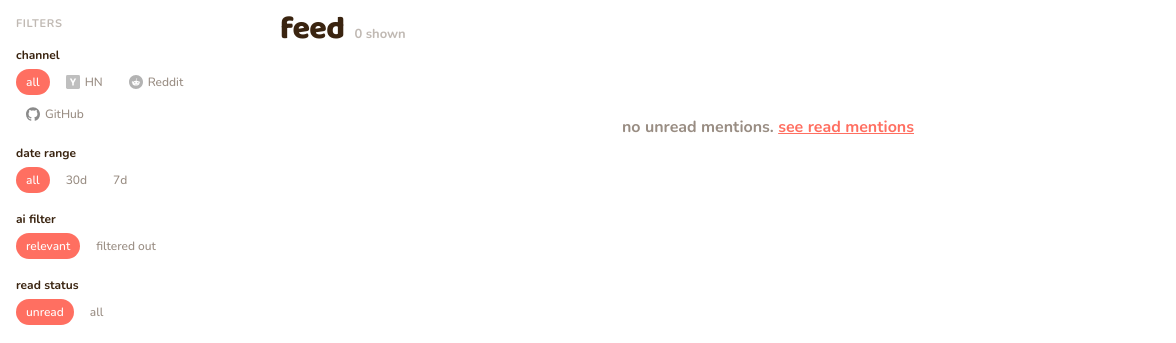
Test case: FeedPage › drops a streamed mention that does not match the active channel filter
Select the "GitHub" channel filter.
Click the button "GitHub" at (55, 114), box 16,100 -> 94,126
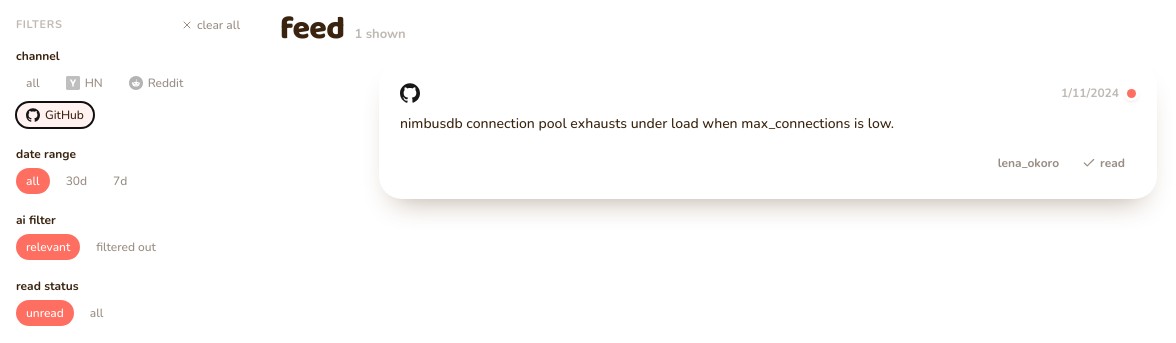
Expected: the text "nimbusdb connection pool exhausts" is shown, 400,114 -> 894,133
